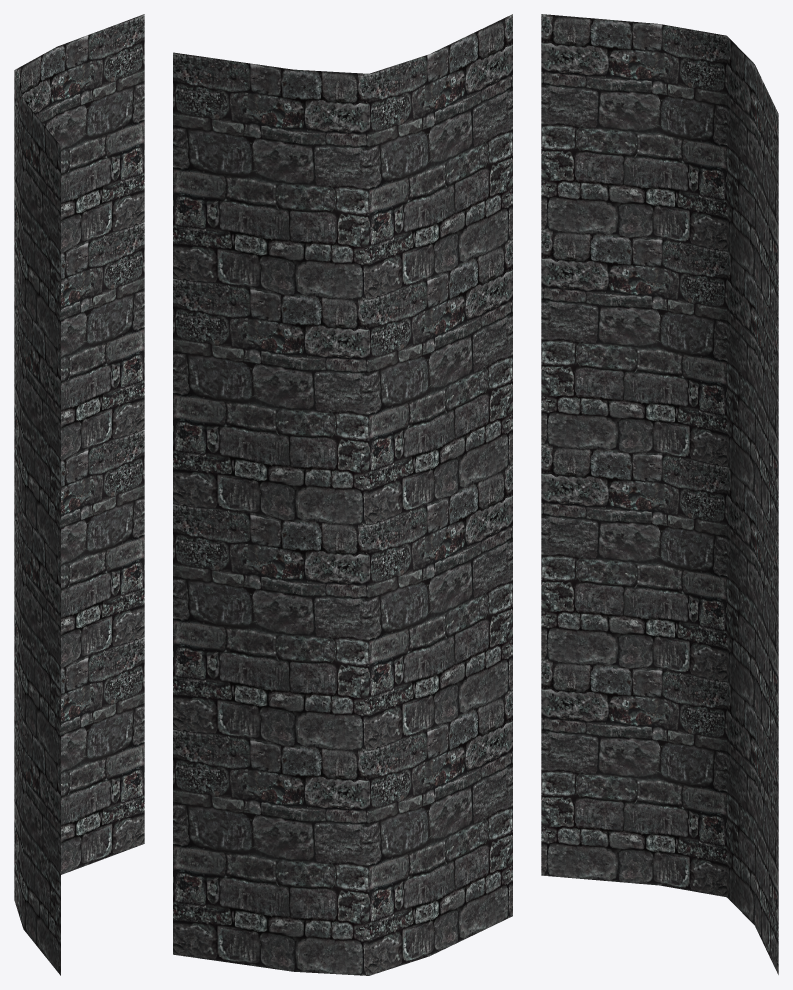
File: wallBlockICR.fbx
3 views of the same model, side by side, from view 1: azimuth 30°, elevation 25°; view 2: azimuth 150°, elevation 25°; view 3: azimuth 270°, elevation 25° (orthographic). The views are drawn at different scales.
Parts seen in each view (by area): view 1: polySurface32; view 2: polySurface32; view 3: polySurface32.
Part boxes in pixels (box(x1,y1,x2,y2)): polySurface32: box(14, 14, 144, 975); polySurface32: box(173, 14, 512, 975); polySurface32: box(541, 14, 778, 974).
Bounding box in the file's own units: 2 × 8 × 2.
